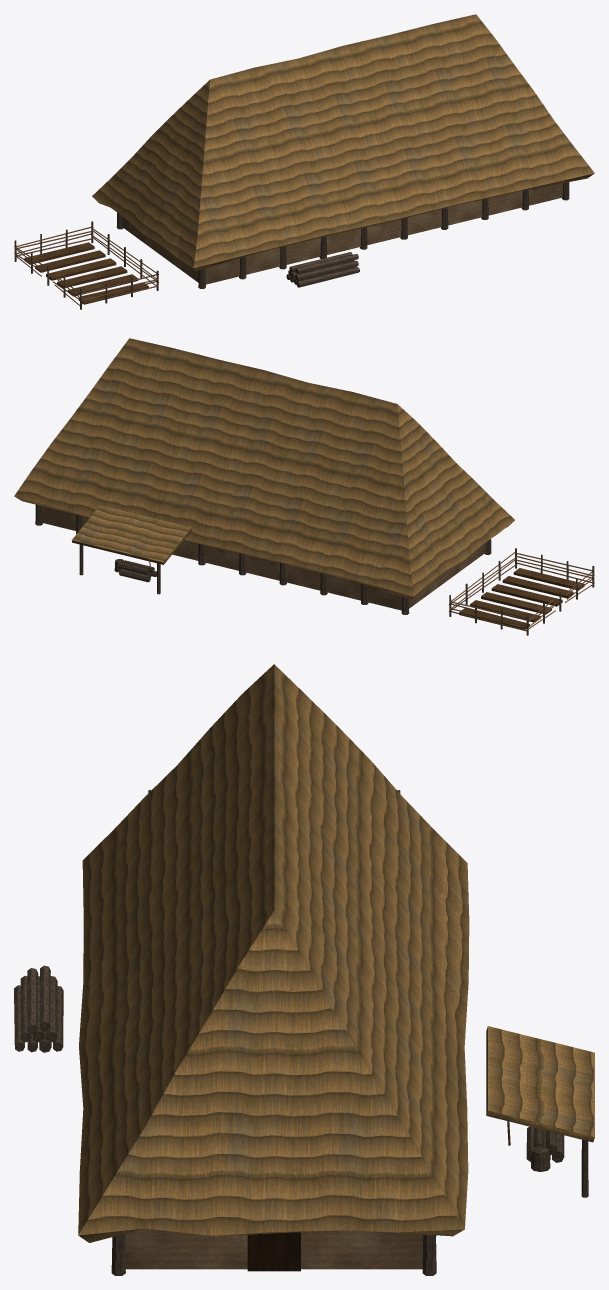
Rendered from casa_lunga_grande_b.glb.
The picture shows the model from 3 angles, top to bottom: view 1: azimuth 30°, elevation 25°; view 2: azimuth 150°, elevation 25°; view 3: azimuth 270°, elevation 25°; orthographic projection. The views are drawn at different scales.
Parts seen in each view (by area): view 1: casa_lunga_grande_b; view 2: casa_lunga_grande_b; view 3: casa_lunga_grande_b.
Boxes of the visible parts, box(x1,y1,x2,y2) form: casa_lunga_grande_b: box(14, 14, 594, 309); casa_lunga_grande_b: box(14, 338, 594, 635); casa_lunga_grande_b: box(14, 664, 594, 1275).
Size of the model in its own units: 24.61 by 7.93 by 13.08.
6 materials, 6 textured.
